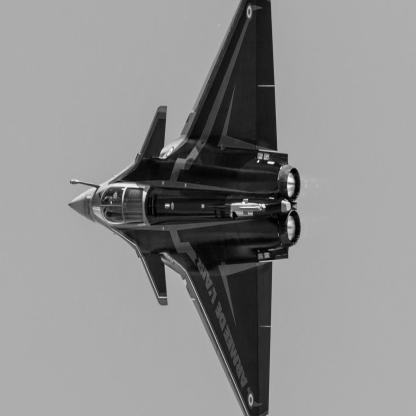Rafale: (69, 2, 303, 416)
